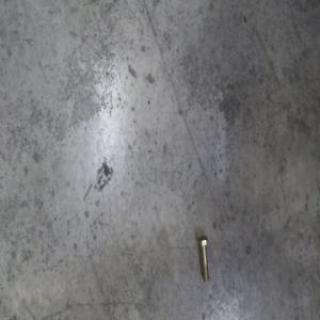Bolttrack_idkeyframe: (196, 233, 209, 282)
